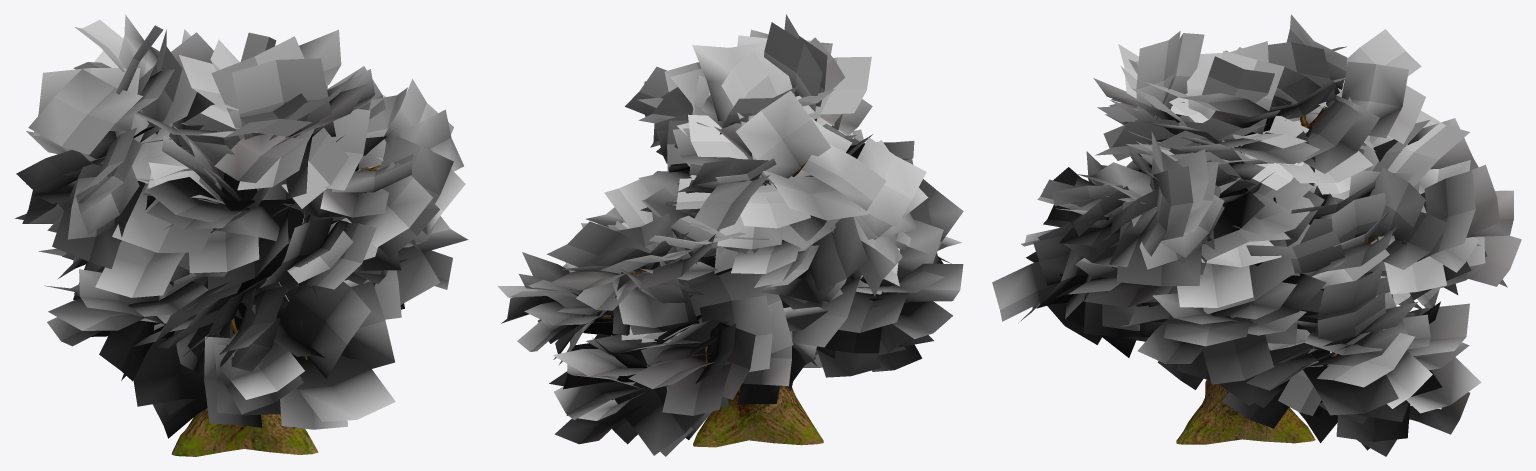
Rendered from sb_obj_nature001_Tree01a.fbx.
3 renders of one model, left to right at view 1: azimuth 30°, elevation 25°; view 2: azimuth 150°, elevation 25°; view 3: azimuth 270°, elevation 25°, orthographic. The views are drawn at different scales.
Parts seen in each view (by area): view 1: leaf01a, sb_obj_nature001_Tree01a; view 2: leaf01a, sb_obj_nature001_Tree01a; view 3: leaf01a, sb_obj_nature001_Tree01a.
Part boxes in pixels (box(x1,y1,x2,y2)): leaf01a: box(15, 14, 468, 438); sb_obj_nature001_Tree01a: box(140, 110, 379, 456); leaf01a: box(497, 14, 963, 456); sb_obj_nature001_Tree01a: box(599, 160, 823, 447); leaf01a: box(992, 14, 1521, 456); sb_obj_nature001_Tree01a: box(1108, 108, 1378, 444).
Bounding box in the file's own units: 5.23 × 4.85 × 5.9.
